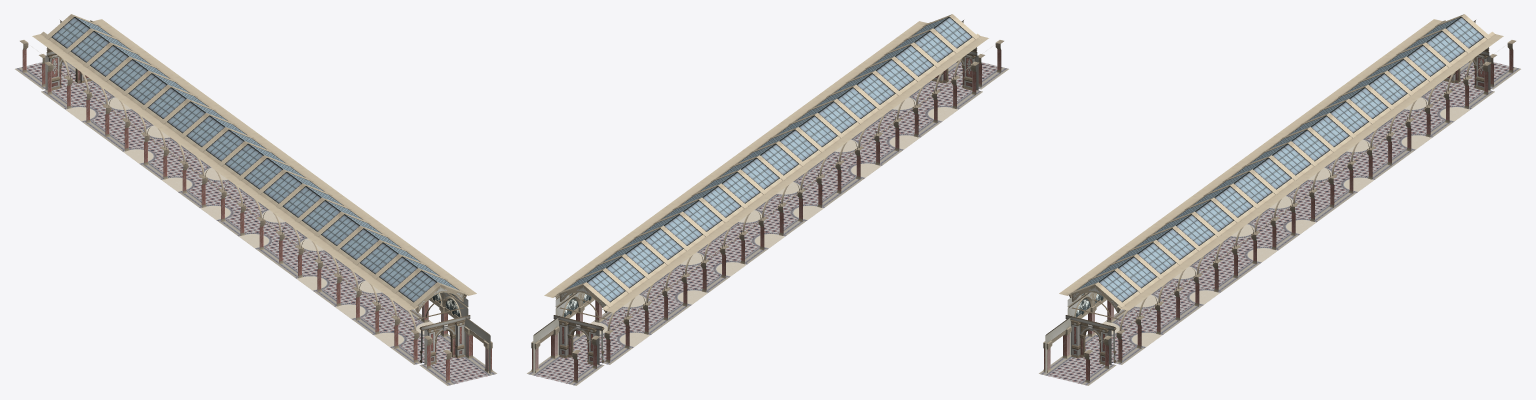
Rendered from t1_b_passage_a.glb.
The picture shows the model from 3 angles, left to right: view 1: azimuth 30°, elevation 25°; view 2: azimuth 150°, elevation 25°; view 3: azimuth 330°, elevation 25°; orthographic projection.
Parts seen in each view (by area): view 1: um_t1_b_passage_a_model_t1_b_passage_a_modelShape; view 2: um_t1_b_passage_a_model_t1_b_passage_a_modelShape; view 3: um_t1_b_passage_a_model_t1_b_passage_a_modelShape.
Part boxes in pixels (left/top/right/bottom): um_t1_b_passage_a_model_t1_b_passage_a_modelShape: left=15, top=14, right=496, bottom=385; um_t1_b_passage_a_model_t1_b_passage_a_modelShape: left=527, top=14, right=1008, bottom=385; um_t1_b_passage_a_model_t1_b_passage_a_modelShape: left=1039, top=14, right=1520, bottom=385.
Size of the model in its own units: 13.37 by 13.18 by 143.
10 materials, 10 textured.
